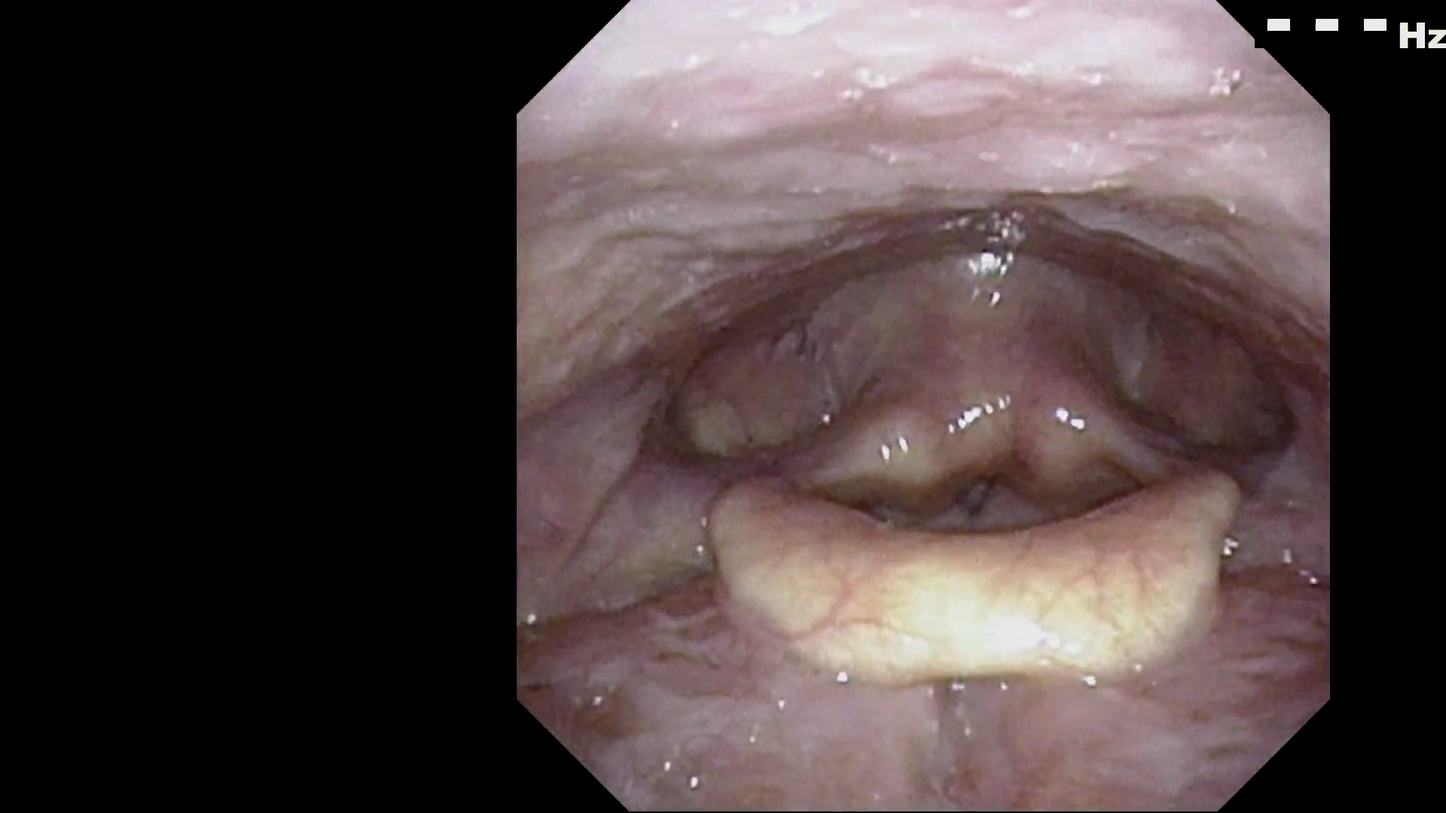epiglottis: (666, 427, 1296, 710)
trachea: (914, 424, 1028, 564)
